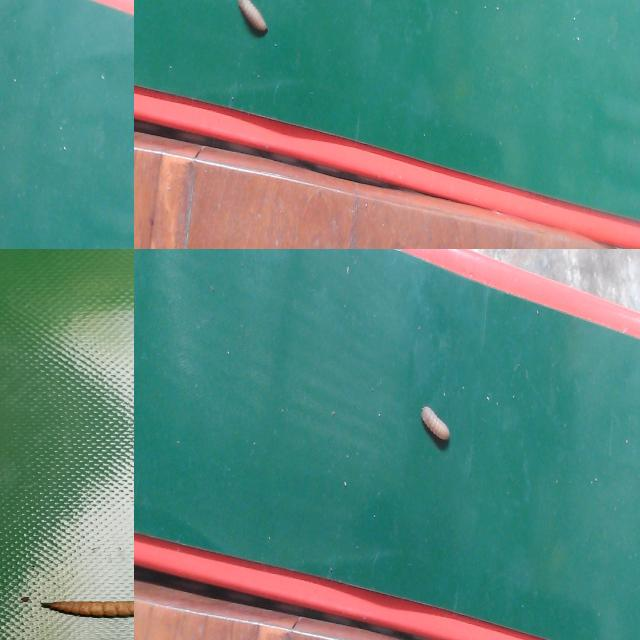Maggot: (41, 601, 134, 621), (419, 407, 452, 452), (236, 0, 269, 40)
